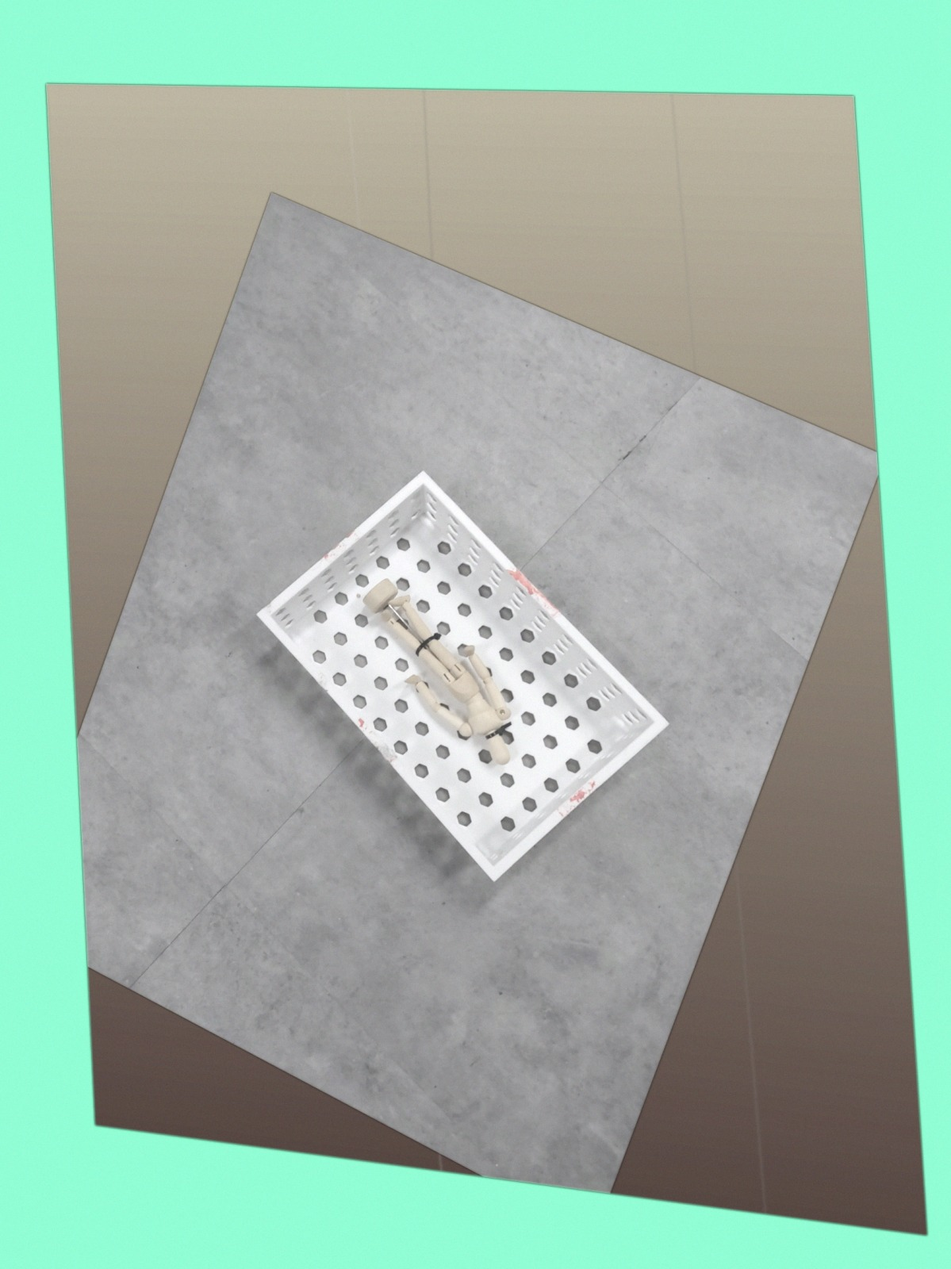basket: (249, 464, 679, 895)
mannequin: (358, 574, 520, 771)
